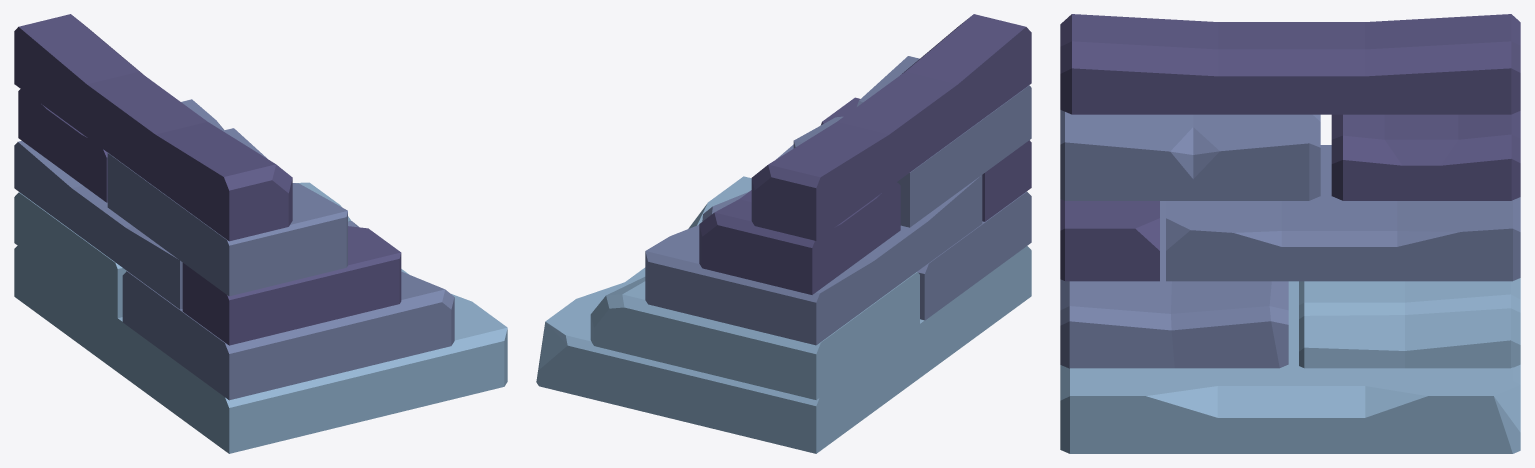
The model's file is BuildingStairs_01.fbx.
3 renders of one model, left to right at view 1: azimuth 30°, elevation 25°; view 2: azimuth 150°, elevation 25°; view 3: azimuth 270°, elevation 25°, orthographic. The views are drawn at different scales.
Visible parts, largest first — view 1: BuildingStairs_01; view 2: BuildingStairs_01; view 3: BuildingStairs_01.
Boxes of the visible parts, x1,y1,x2,y2 form: BuildingStairs_01: [14, 14, 507, 453]; BuildingStairs_01: [536, 14, 1031, 453]; BuildingStairs_01: [1060, 14, 1520, 453].
Bounding box in the file's own units: 217 × 200 × 286.
